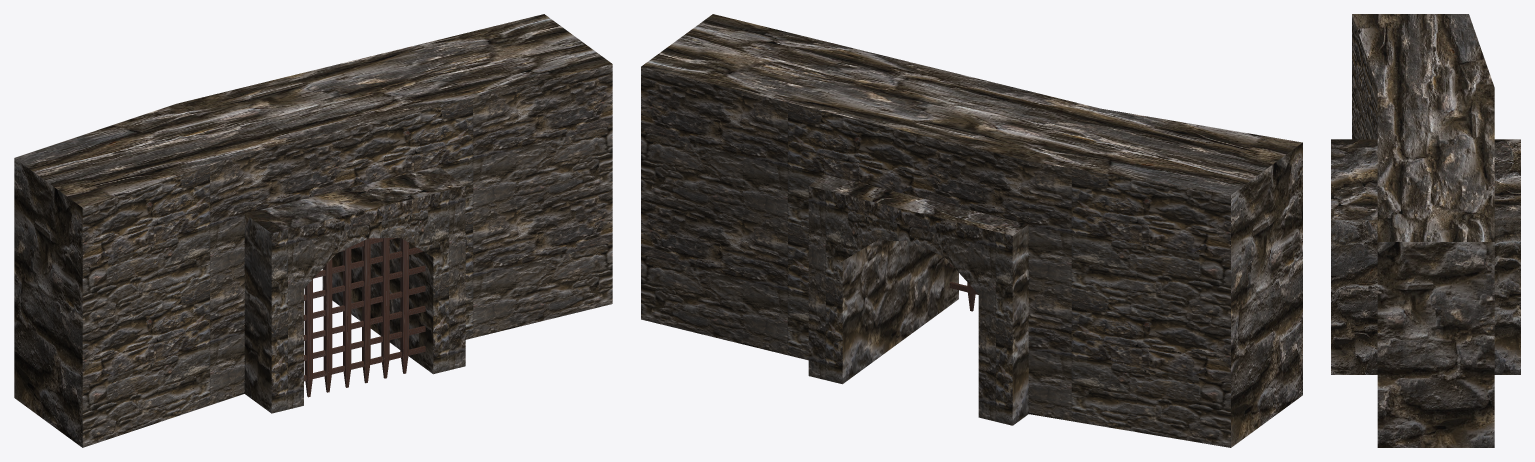
The model's file is CityGate.fbx.
3 views of the same model, side by side, from view 1: azimuth 30°, elevation 25°; view 2: azimuth 150°, elevation 25°; view 3: azimuth 270°, elevation 25° (orthographic). The views are drawn at different scales.
Parts seen in each view (by area): view 1: pCube37, pCube51; view 2: pCube37; view 3: pCube37.
Boxes of the visible parts, <box> form: pCube37: <box>14,14,612,447</box>; pCube51: <box>304,238,425,397</box>; pCube37: <box>641,14,1302,447</box>; pCube37: <box>1331,14,1520,447</box>.
Bounding box in the file's own units: 484 × 204 × 170.
2 materials, 2 textured.
